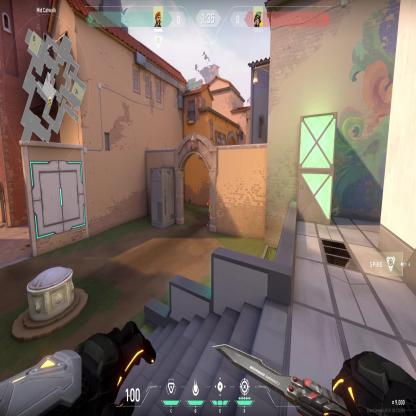enemy: (206, 196, 210, 227)
